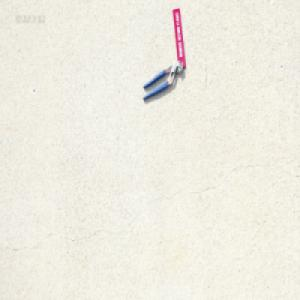Label: (171, 7, 186, 68)
Pliers: (142, 58, 184, 101)
